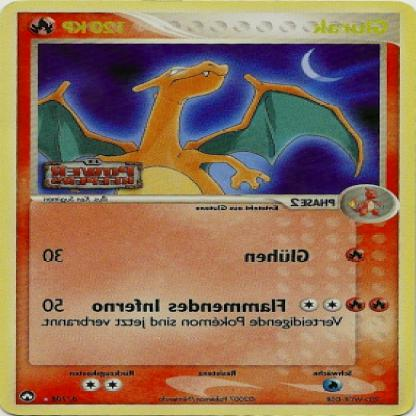Charizard: (42, 59, 366, 184)
